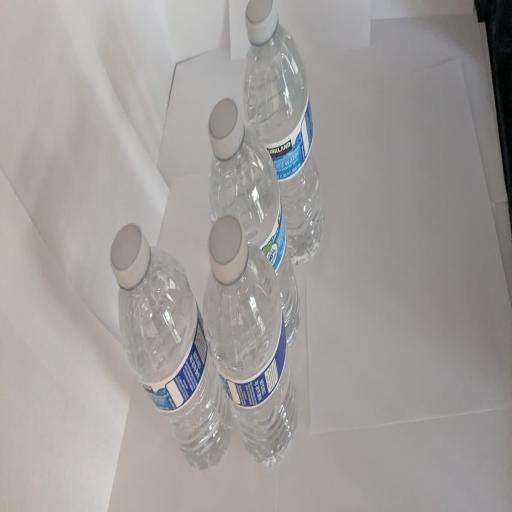waterbottle: (111, 224, 232, 468), (204, 216, 296, 465), (208, 98, 299, 346), (244, 0, 323, 263)
